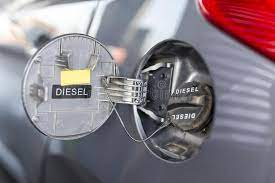open: (127, 35, 220, 161)
